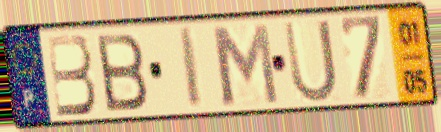7: (339, 12, 386, 103)
B: (44, 31, 100, 120), (92, 30, 151, 114)
I: (176, 24, 205, 111)
M: (207, 20, 282, 108)
U: (280, 16, 340, 105)
